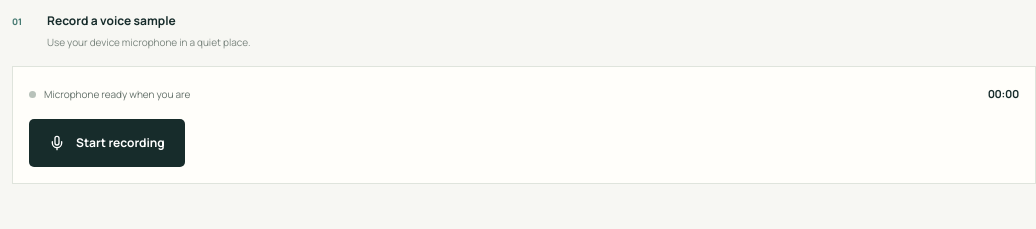
AudioRecorder › shows a useful message when microphone permission is denied
What coordinates should you click on to do the following:
click the button "Start recording"
I would click on:
 (107, 143)
Its box is x1=29 y1=119 x2=185 y2=167.
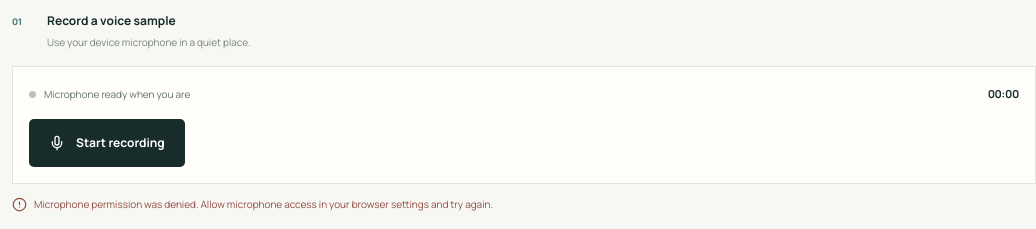
expect the message shows "permission was denied": met, box x1=34 y1=197 x2=493 y2=211
